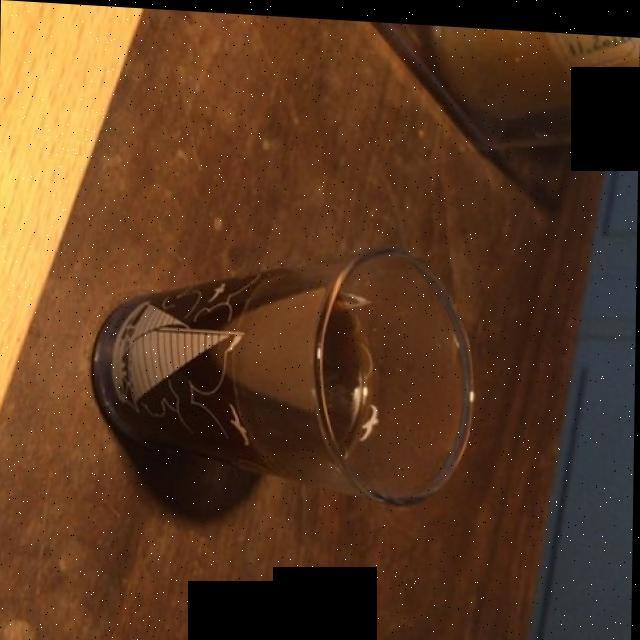coffee: (104, 262, 381, 481)
